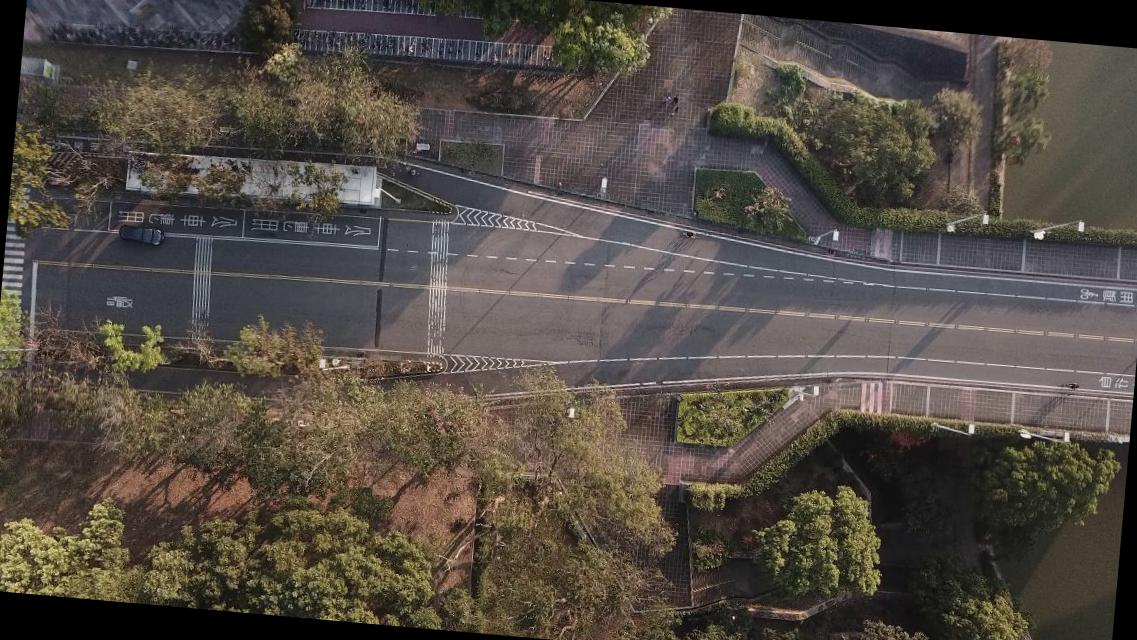vehicle: (118, 224, 164, 246)
